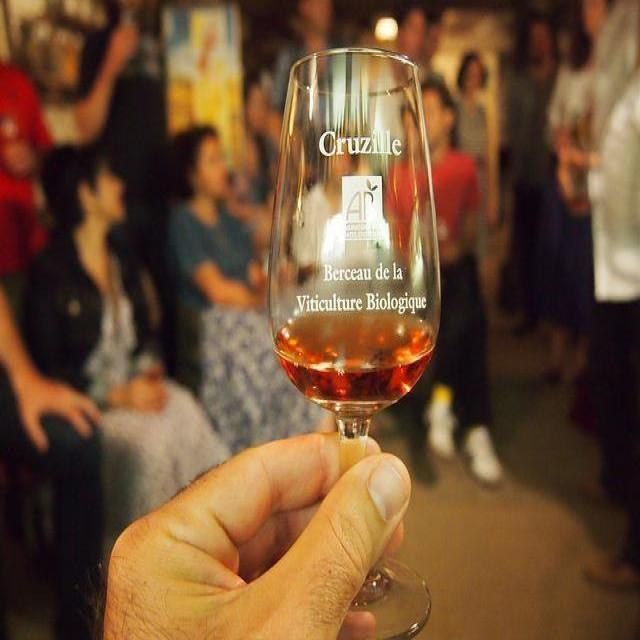glass-wine: (265, 45, 444, 639)
